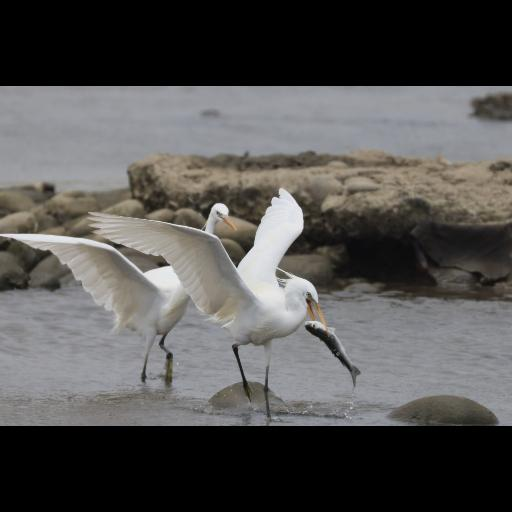chinese_egret: (86, 186, 328, 404), (3, 202, 239, 384)
